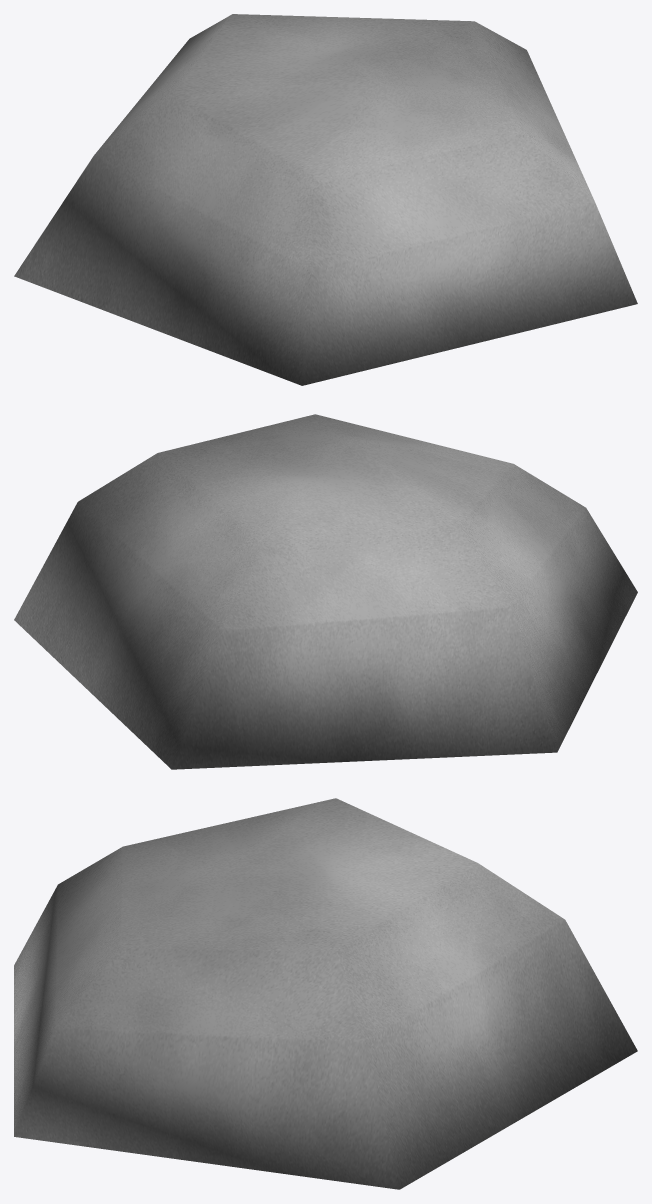
The model's file is Stone.glb.
3 views of the same model, one above another, from view 1: azimuth 30°, elevation 25°; view 2: azimuth 150°, elevation 25°; view 3: azimuth 270°, elevation 25° (orthographic). The views are drawn at different scales.
Parts seen in each view (by area): view 1: Cylinder; view 2: Cylinder; view 3: Cylinder.
Boxes of the visible parts, bbox=[...] form: Cylinder: bbox=[14, 14, 637, 385]; Cylinder: bbox=[14, 414, 637, 769]; Cylinder: bbox=[14, 798, 637, 1189].
Bounding box in the file's own units: 1.9 × 0.6173 × 1.81.
Materials: 1 (1 with a texture image).
